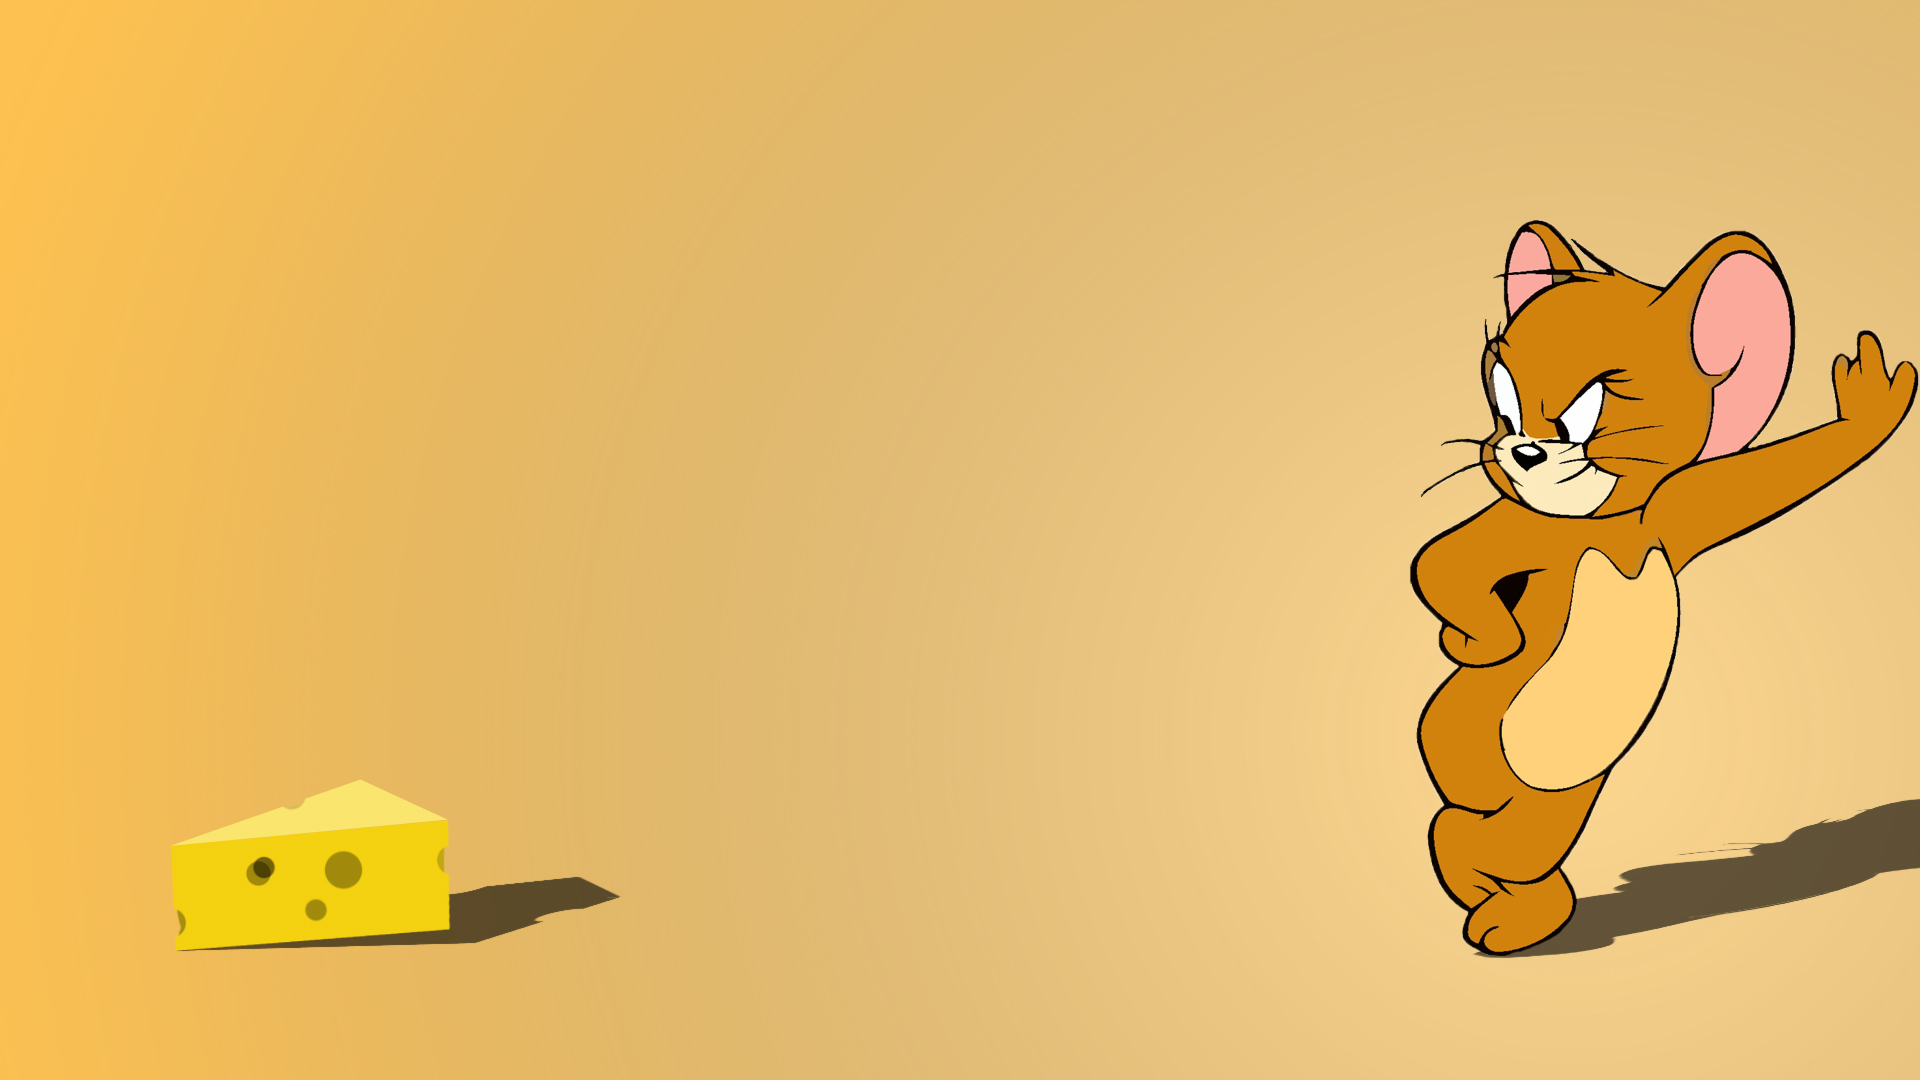jerry: (1402, 214, 1920, 956)
